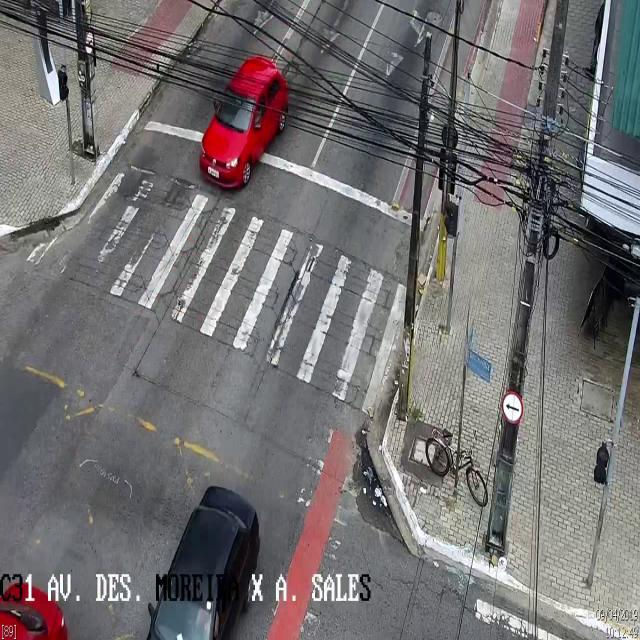Car: (148, 485, 260, 639), (200, 58, 288, 192)
